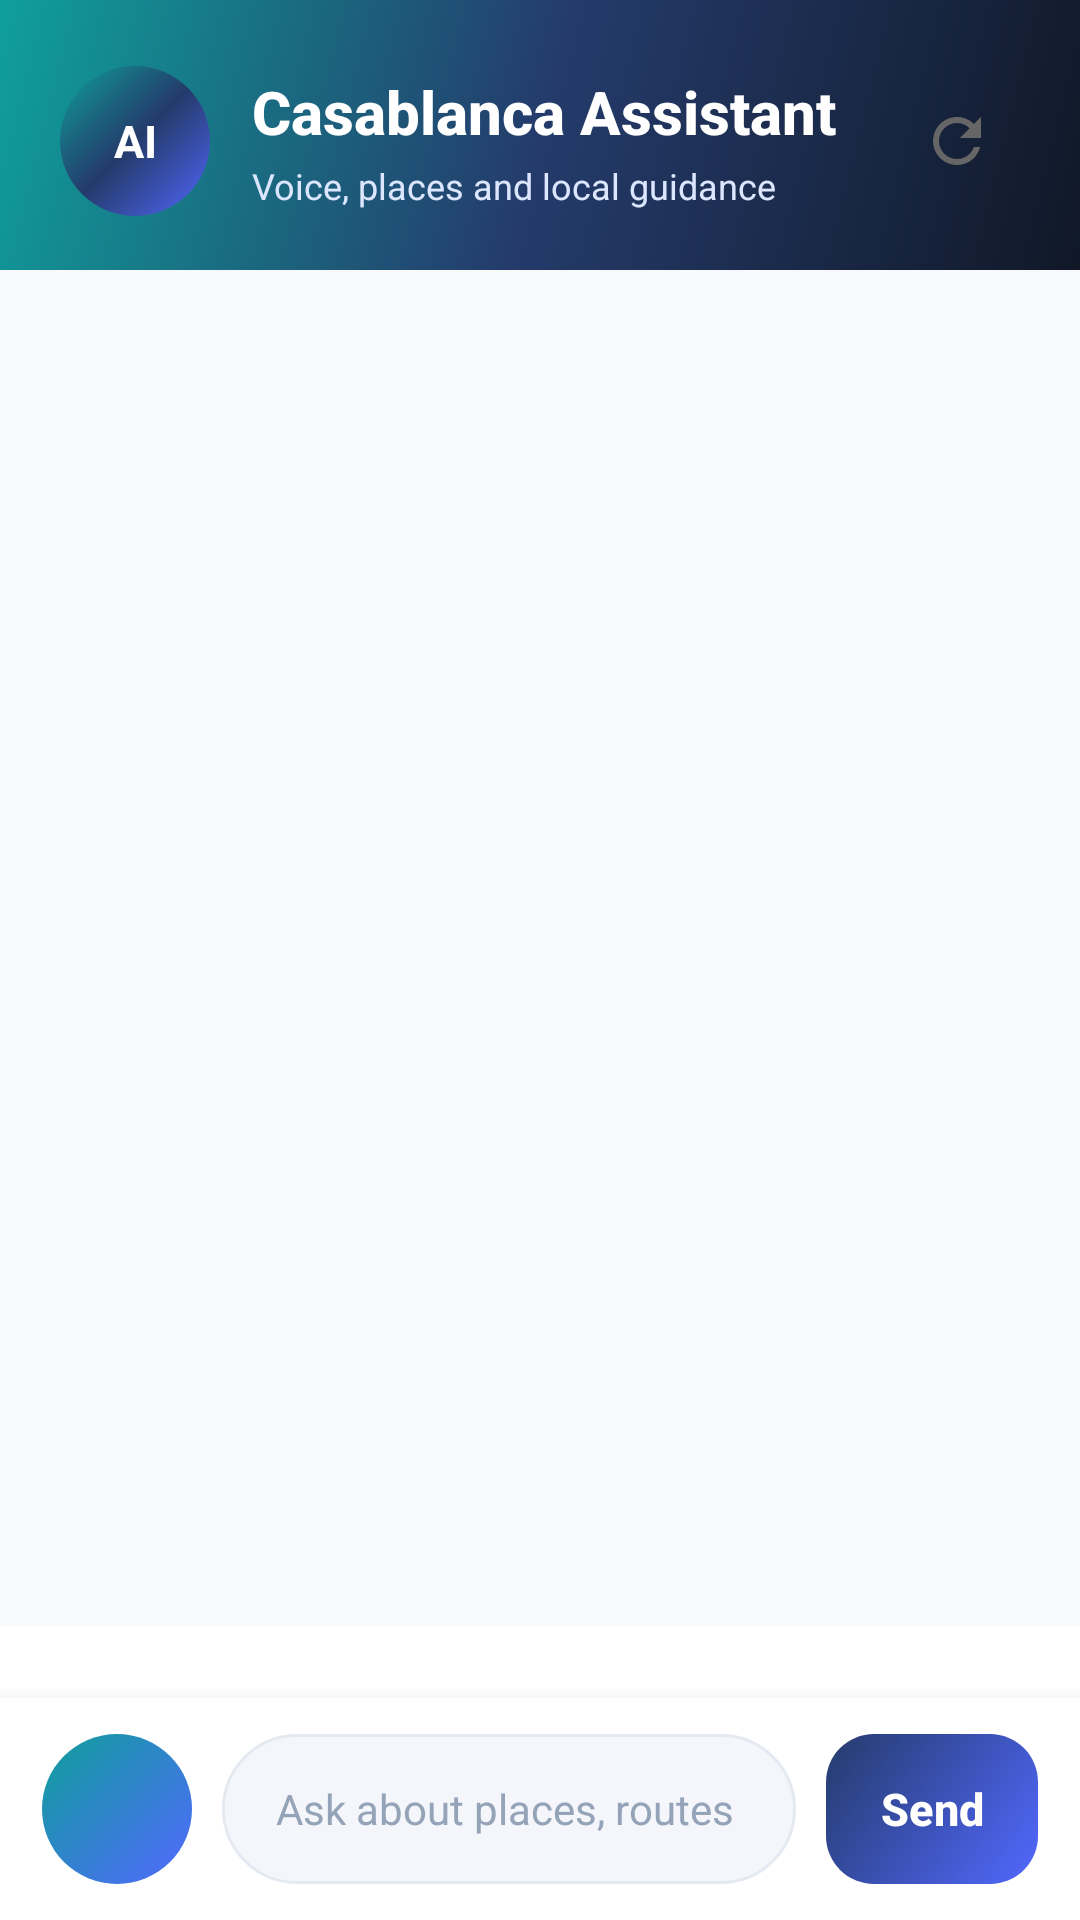

Locate icon controls on the screen. Image size 1080w x 1920h, boxes as (x1, y1, x2, y2).
Clear conversation: (933, 117, 981, 165)
